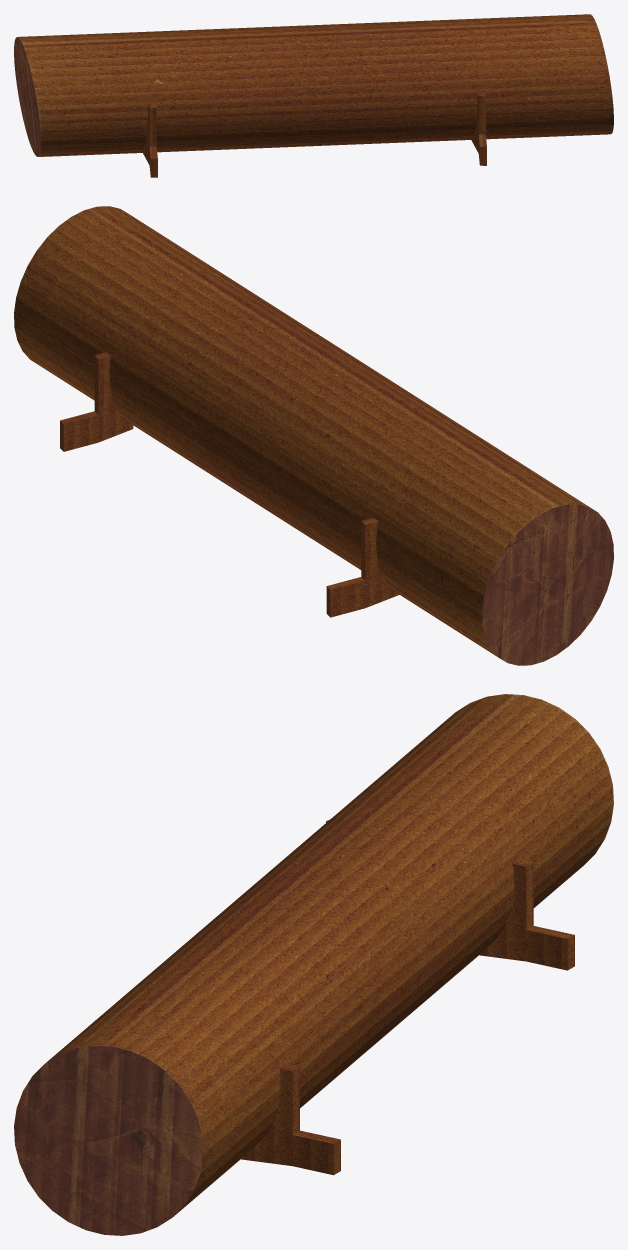
File: brevno.fbx
The picture shows the model from 3 angles, top to bottom: view 1: azimuth 30°, elevation 25°; view 2: azimuth 150°, elevation 25°; view 3: azimuth 270°, elevation 25°; orthographic projection. The views are drawn at different scales.
Visible parts, largest first — view 1: brevno.001; view 2: brevno.001; view 3: brevno.001.
Boxes of the visible parts, x1,y1,x2,y2 form: brevno.001: [14, 14, 613, 177]; brevno.001: [14, 206, 613, 665]; brevno.001: [14, 694, 613, 1235].
Size of the model in its own units: 6415 by 1461 by 4204.
Materials: 2 (2 with a texture image).
